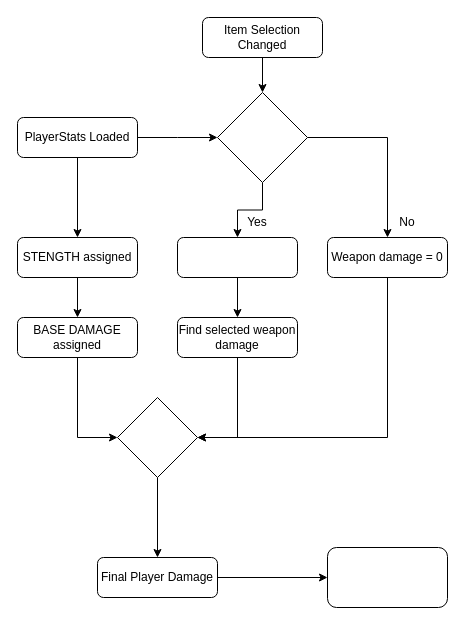
The diagram is 465 pixels wide and 625 high, and some of its shapes have lost their labels. Each missing label, with the centre of its shape:
Add: (x=157, y=437)
Apply health reduction to enemies based on damage amount: (x=387, y=577)
Check if Weapon is selected: (x=262, y=137)
Find selected weapon stats: (x=237, y=257)
